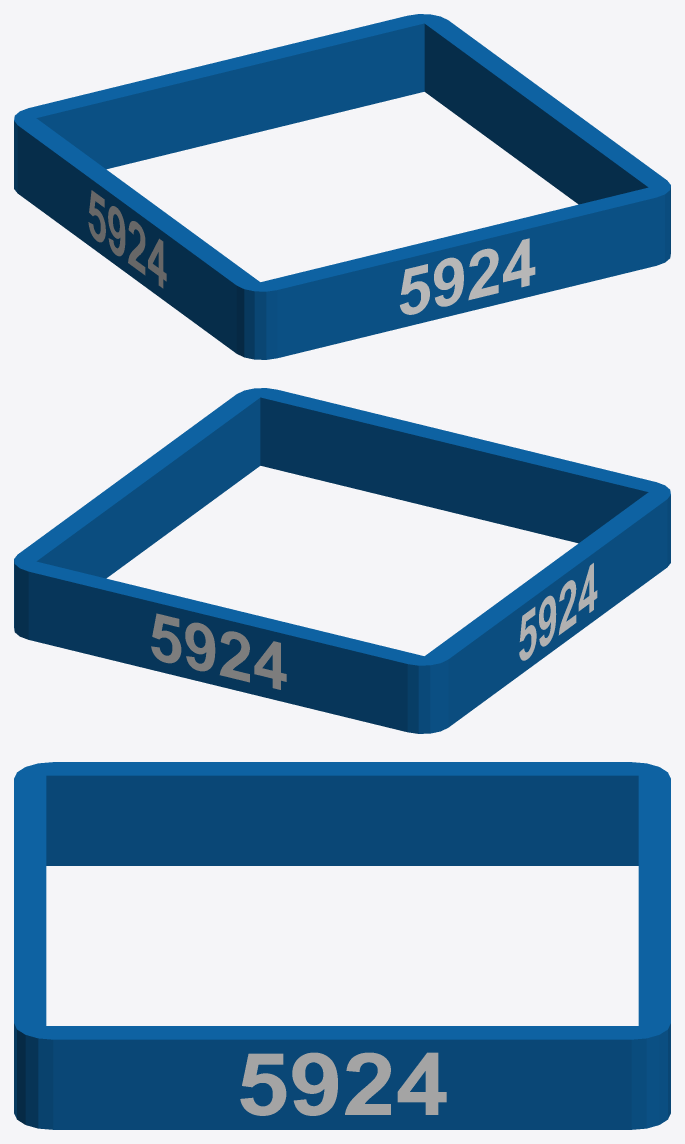
The model's file is bumper.glb.
The picture shows the model from 3 angles, top to bottom: view 1: azimuth 30°, elevation 25°; view 2: azimuth 150°, elevation 25°; view 3: azimuth 270°, elevation 25°; orthographic projection. The views are drawn at different scales.
Parts seen in each view (by area): view 1: Bumper, Front, Left; view 2: Bumper, Back, Left; view 3: Bumper, Right.
Part boxes in pixels (box(x1,y1,x2,y2)): Bumper: box(14, 14, 670, 359); Front: box(400, 238, 535, 314); Left: box(88, 190, 166, 288); Bumper: box(14, 388, 670, 733); Back: box(151, 613, 286, 689); Left: box(519, 563, 597, 660); Bumper: box(14, 762, 670, 1129); Right: box(240, 1052, 446, 1115).
Size of the model in its own units: 0.8384 by 0.127 by 0.8384.
